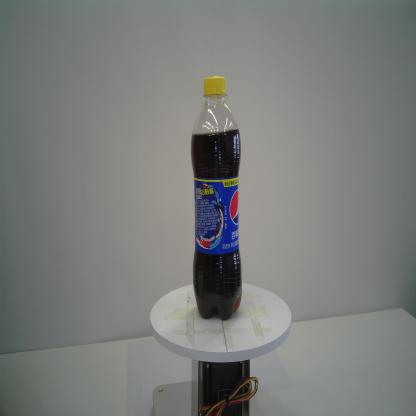Drink: (189, 74, 243, 322)
